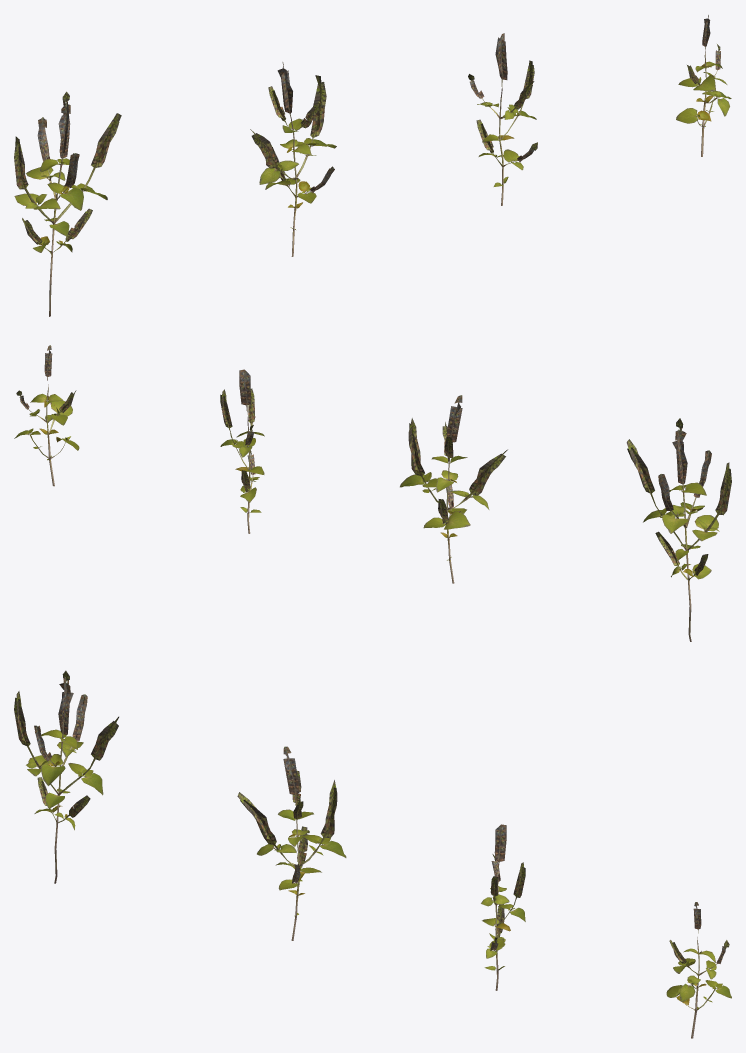
Rendered from shrub3.glb.
The picture shows the model from 3 angles, top to bottom: view 1: azimuth 30°, elevation 25°; view 2: azimuth 150°, elevation 25°; view 3: azimuth 330°, elevation 25°; orthographic projection. The views are drawn at different scales.
Parts seen in each view (by area): view 1: shrub3; view 2: shrub3; view 3: shrub3.
Boxes of the visible parts, x1,y1,x2,y2 form: shrub3: (14, 15, 731, 316); shrub3: (14, 345, 731, 641); shrub3: (14, 670, 731, 1038).
Size of the model in its own units: 1.37 by 0.4028 by 0.1512.
Materials: 1 (1 with a texture image).
